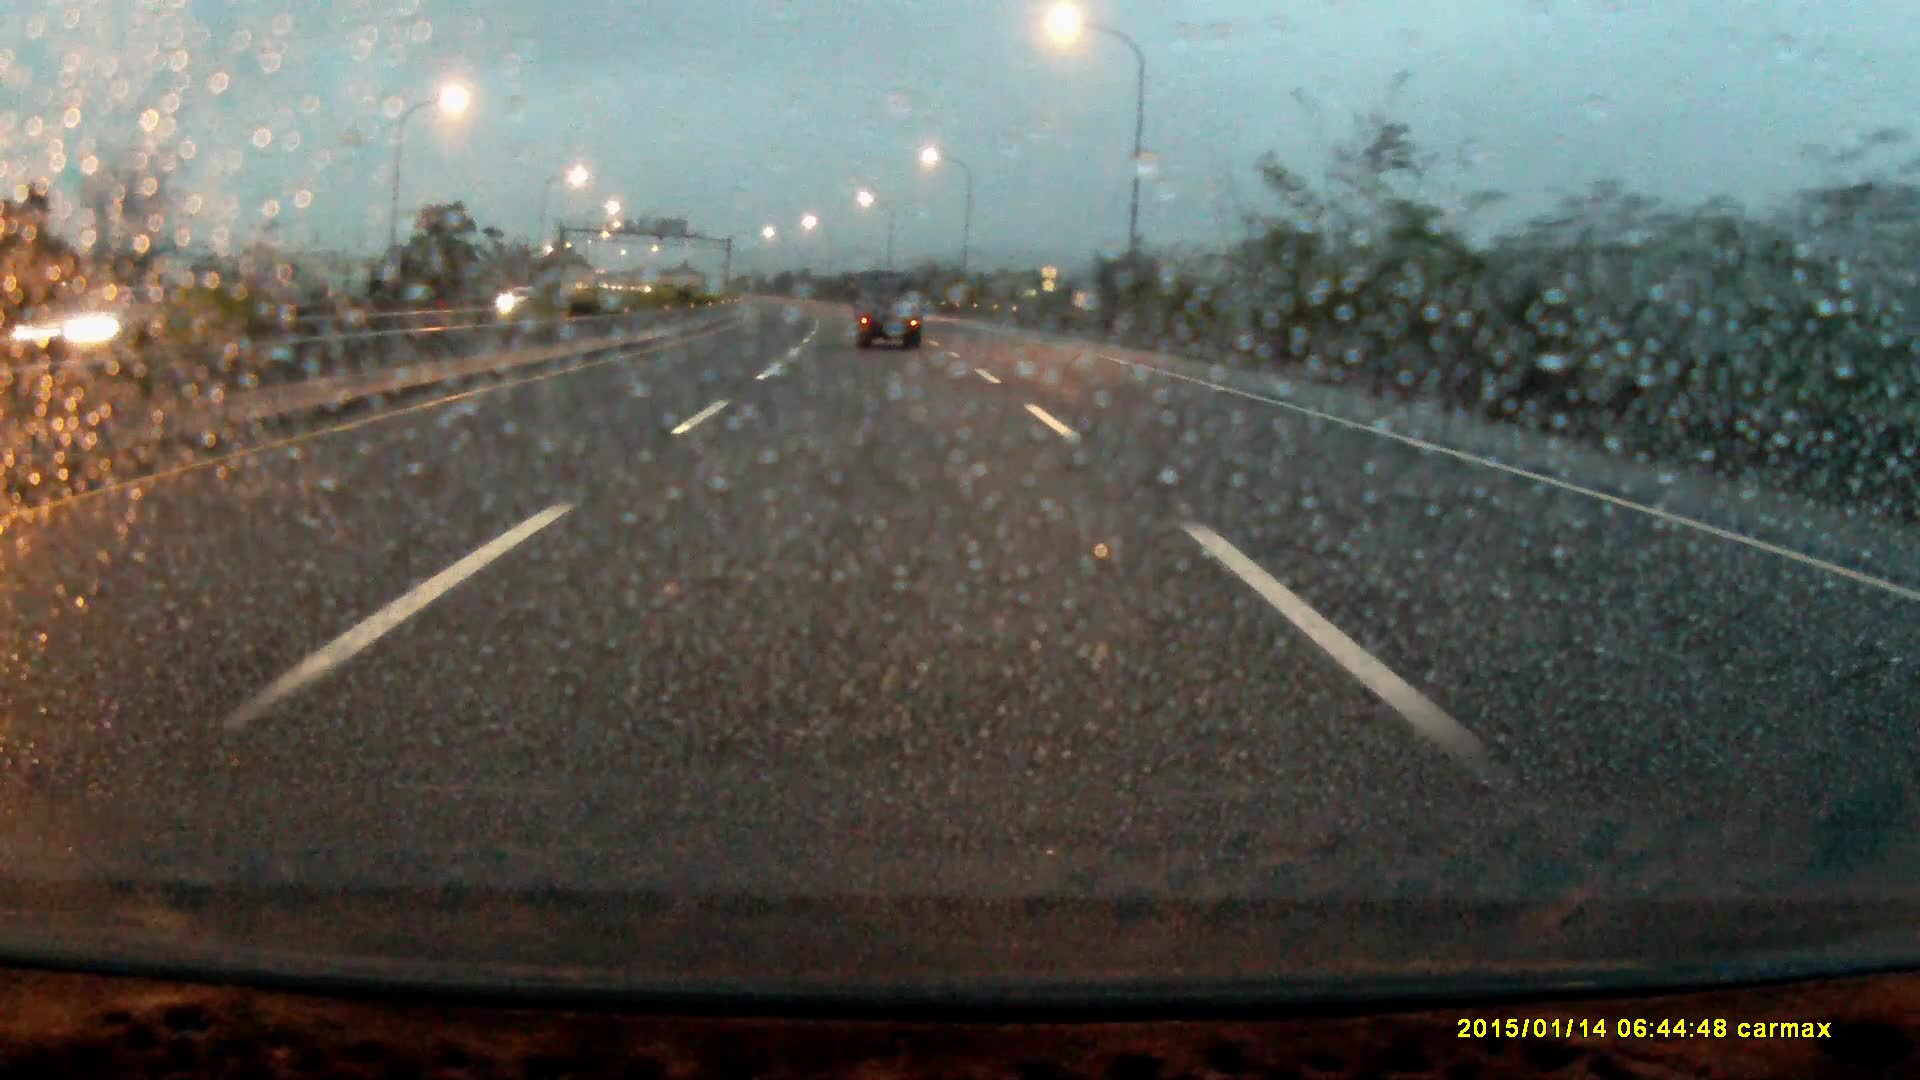vehicle: (851, 272, 924, 352), (497, 287, 560, 320)
